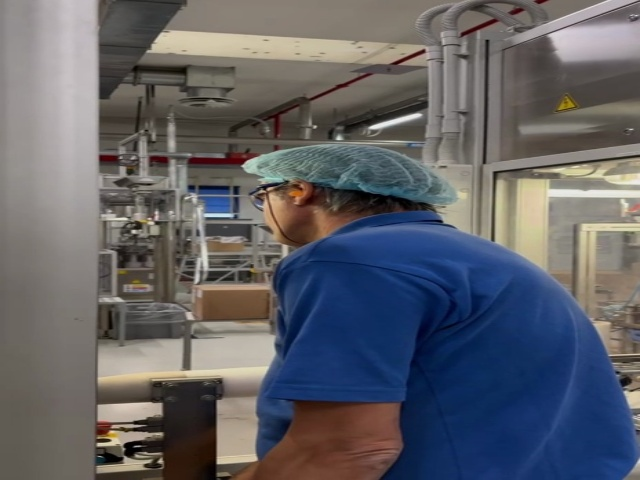Earplug: (289, 179, 313, 208)
Hairnet: (256, 144, 452, 203)
No_Helmet: (257, 144, 449, 200)
No_Vest: (277, 217, 637, 480)
Person: (239, 140, 634, 477)
Safety_Goggles: (247, 178, 291, 213)
